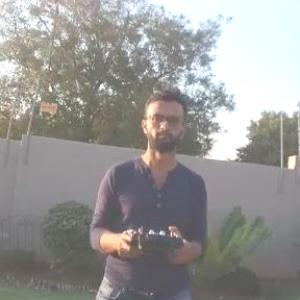follow: (88, 81, 221, 299)
